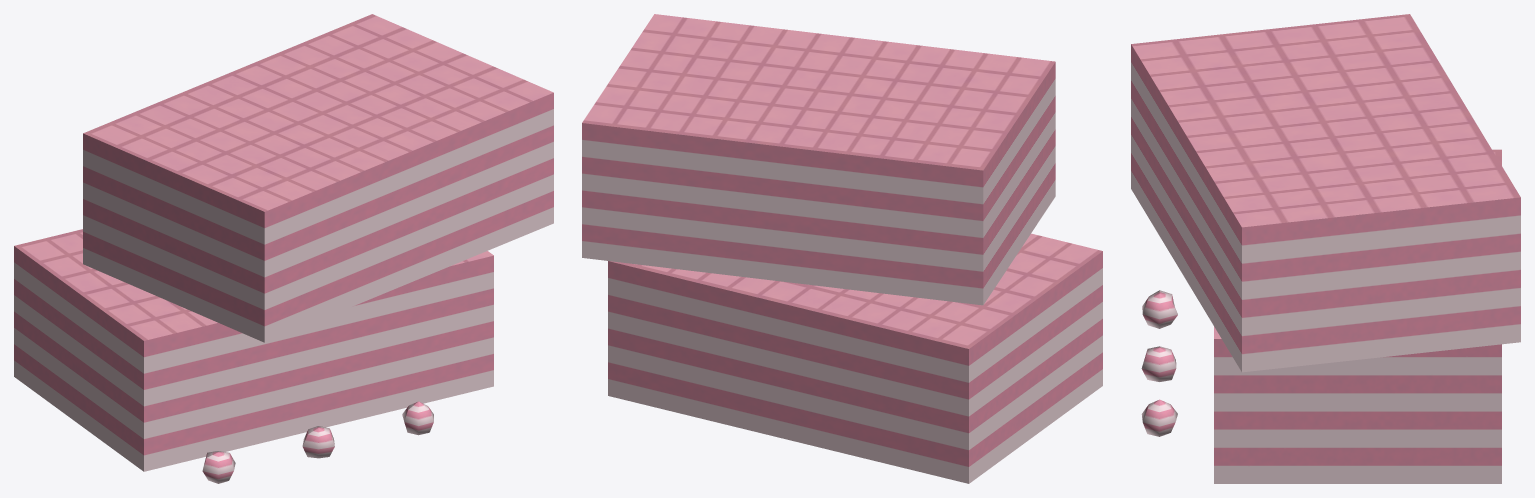
The model's file is candygenius.obj.
3 views of the same model, side by side, from view 1: azimuth 30°, elevation 25°; view 2: azimuth 150°, elevation 25°; view 3: azimuth 270°, elevation 25° (orthographic). The views are drawn at different scales.
Parts seen in each view (by area): view 1: candygenius_0_surface; view 2: candygenius_0_surface; view 3: candygenius_0_surface.
Part boxes in pixels (left/top/right/bottom): candygenius_0_surface: left=14, top=14, right=553, bottom=483; candygenius_0_surface: left=582, top=14, right=1102, bottom=483; candygenius_0_surface: left=1131, top=14, right=1520, bottom=483.
Bounding box in the file's own units: 0.169 × 0.1043 × 0.1218.
Materials: 1 (1 with a texture image).
